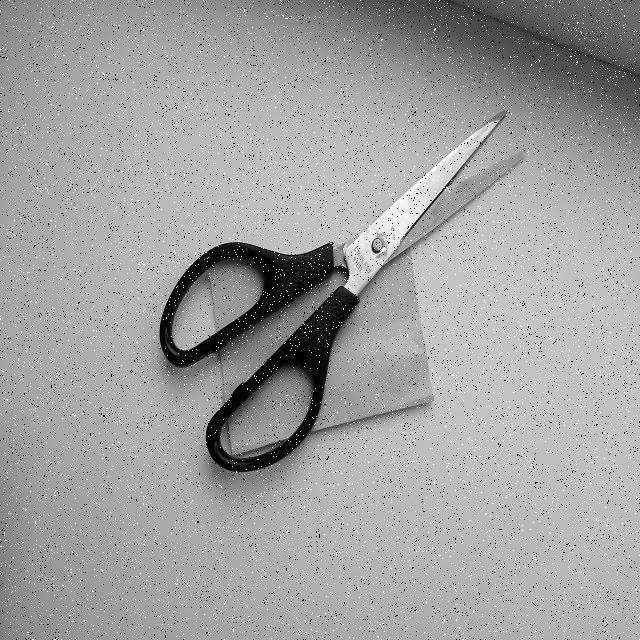scissors: (116, 81, 553, 554)
